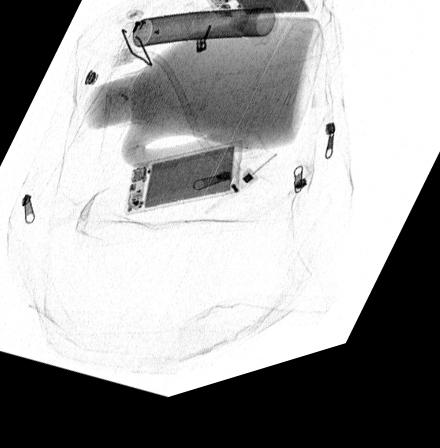Powerbank: (125, 154, 243, 222), (197, 0, 316, 33)
